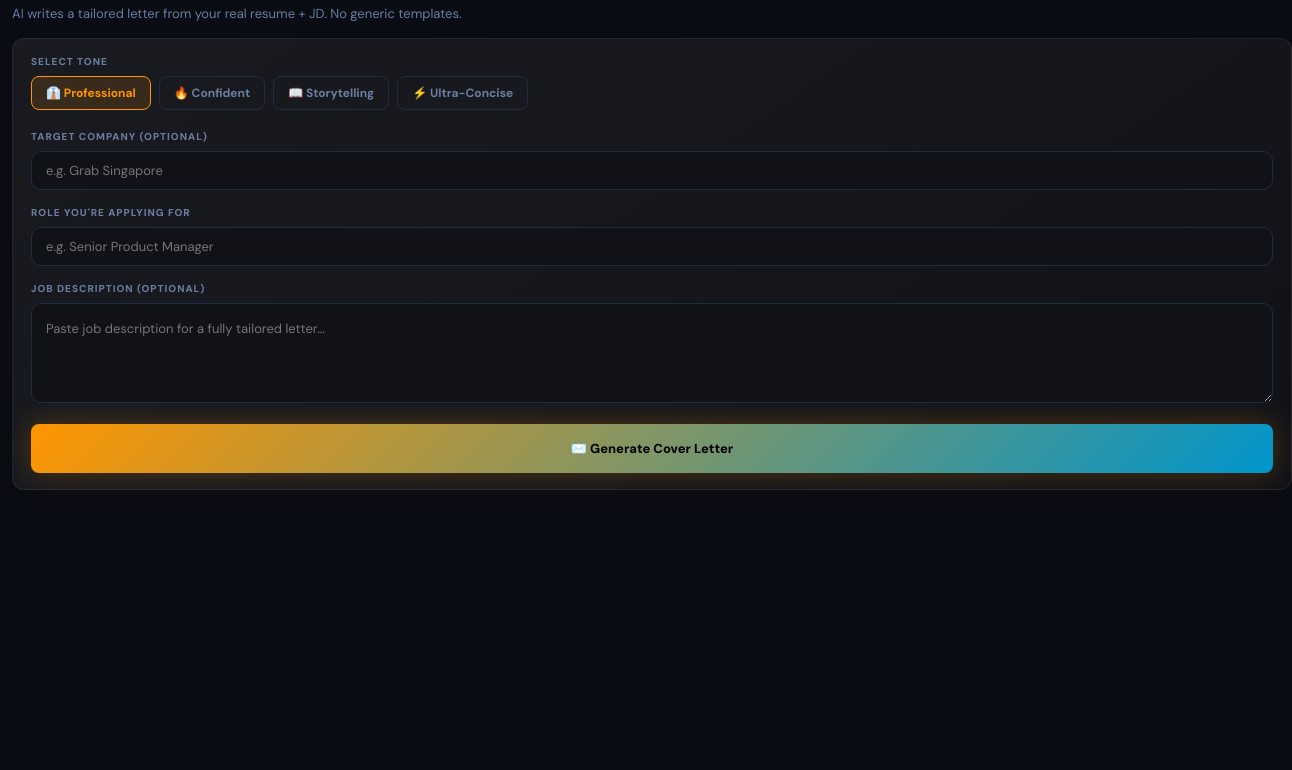
Test case: CoverLetterGen › generates from the role alone (JD is optional) and shows the real result
Type "Senior PM" into the field named "Role" at x=652, y=246, box 31,227 -> 1273,266
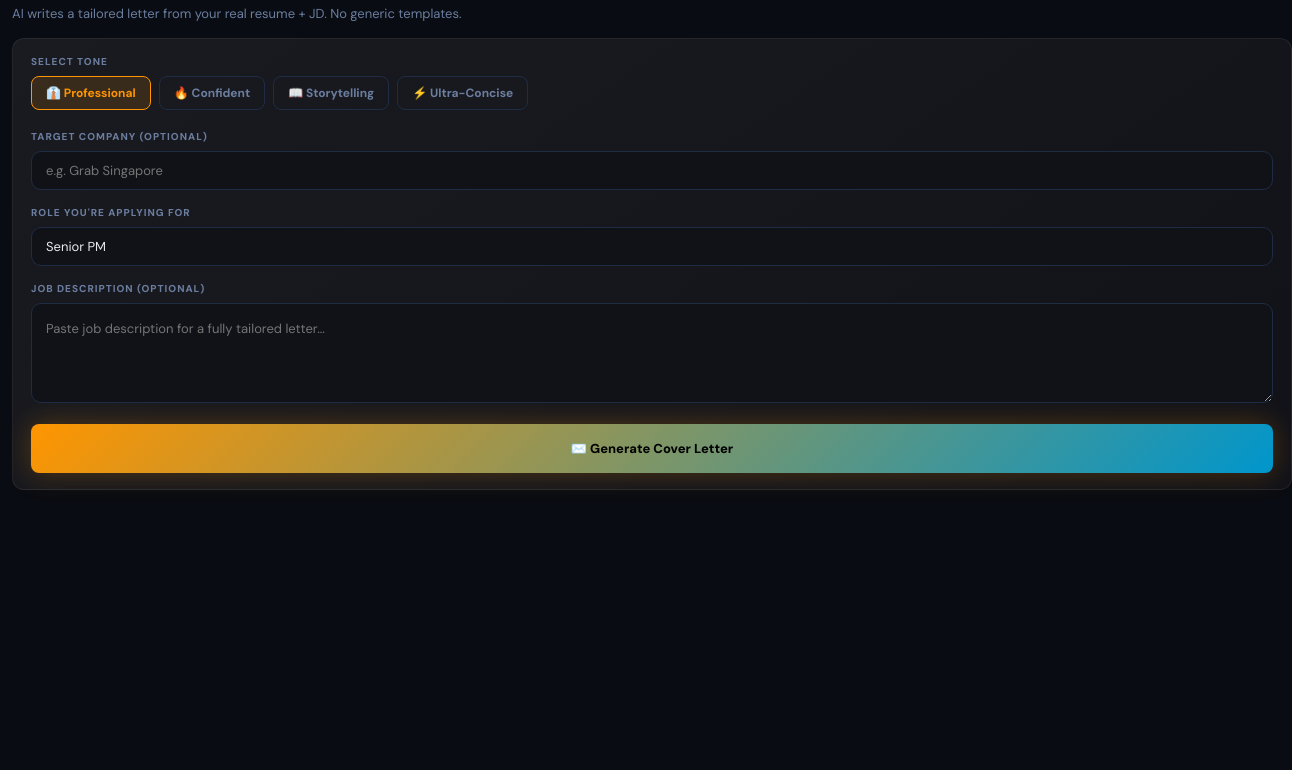
Click the button "✉️ Generate Cover Letter" at x=652, y=448, box 31,424 -> 1273,473
(page scrolled)
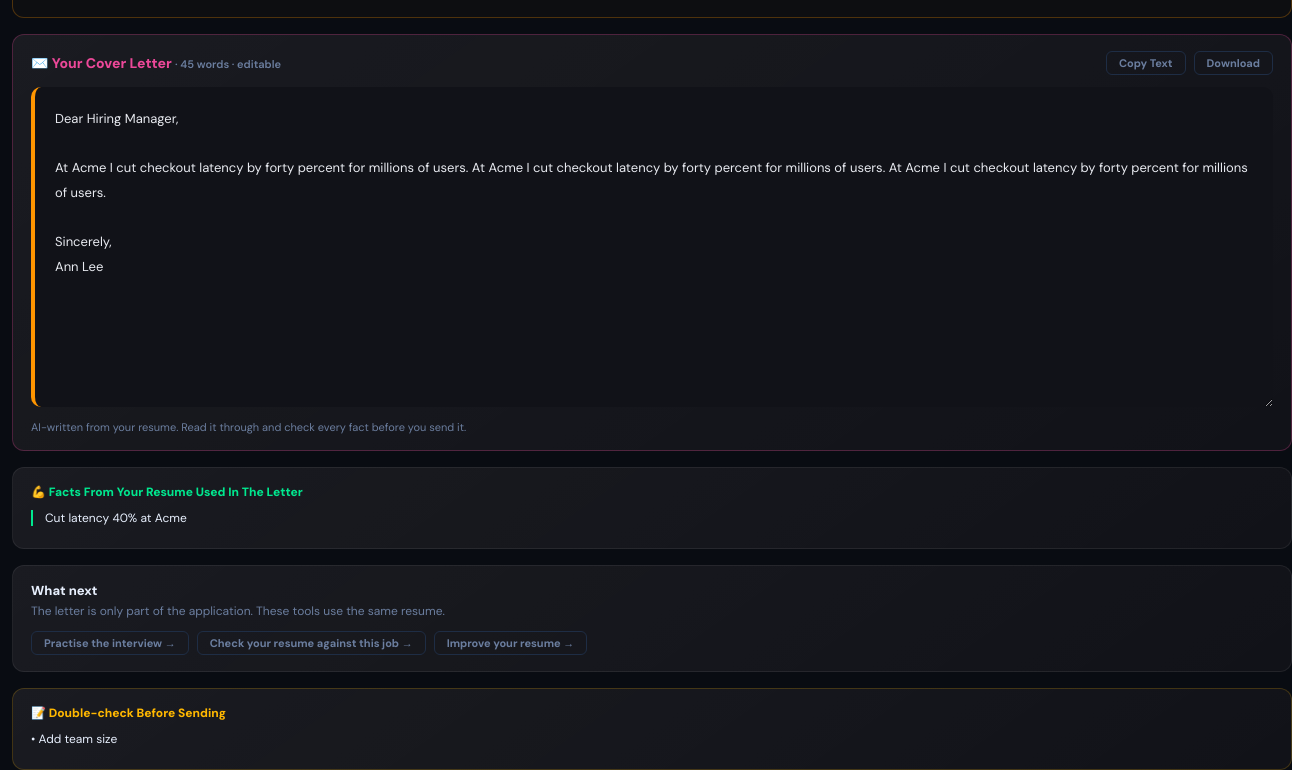
Check: the text "• Add team size" is shown, box 31,731 -> 117,747
Check: the text "Cut latency 40% at Acme" is shown, box 31,510 -> 1273,526
